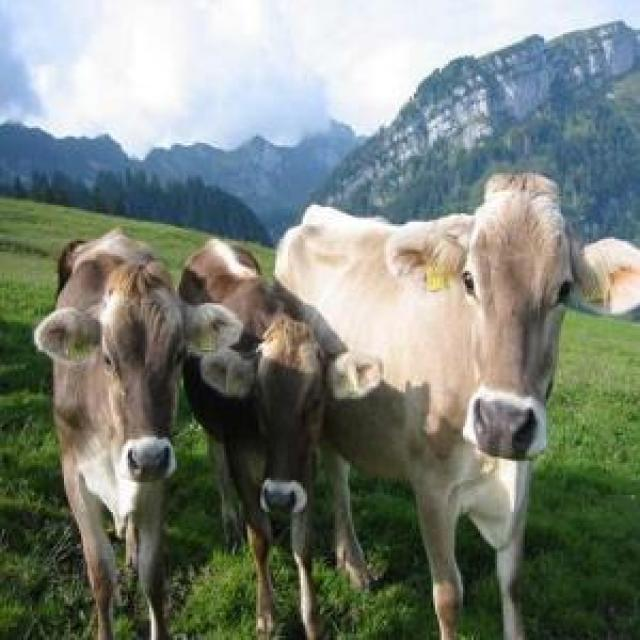not_pig: (271, 168, 638, 638), (32, 224, 243, 638), (175, 235, 382, 638)
